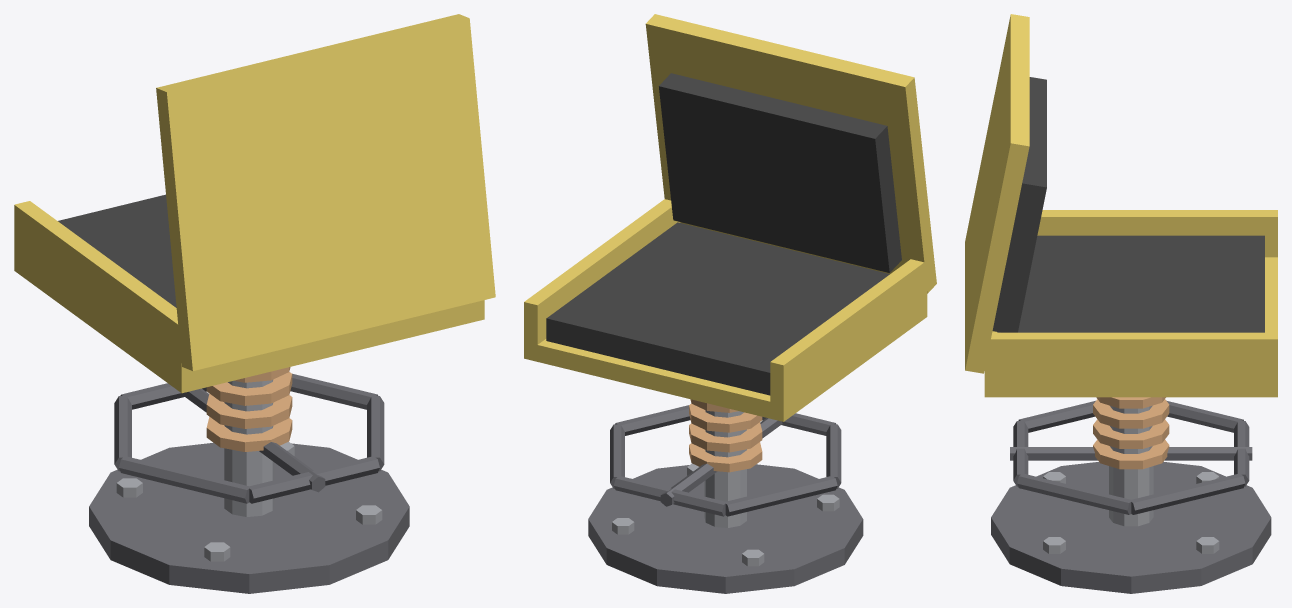
Rendered from drill_chair.glb.
The picture shows the model from 3 angles, left to right: view 1: azimuth 30°, elevation 25°; view 2: azimuth 150°, elevation 25°; view 3: azimuth 270°, elevation 25°; orthographic projection. The views are drawn at different scales.
Visible parts, largest first — view 1: DrillChair; view 2: DrillChair; view 3: DrillChair.
Part boxes in pixels (bbox=[...]): DrillChair: bbox=[14, 14, 495, 593]; DrillChair: bbox=[524, 14, 936, 593]; DrillChair: bbox=[965, 14, 1277, 593].
Bounding box in the file's own units: 0.48 × 0.7895 × 0.4906.
